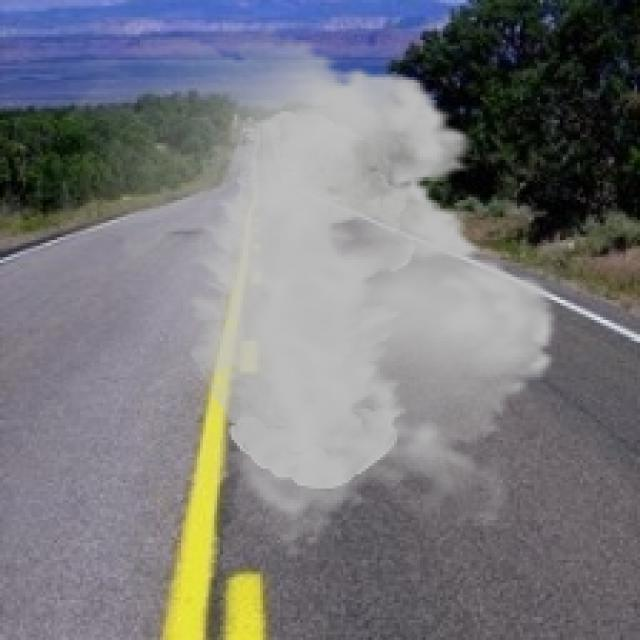smoke: (37, 26, 577, 560)
